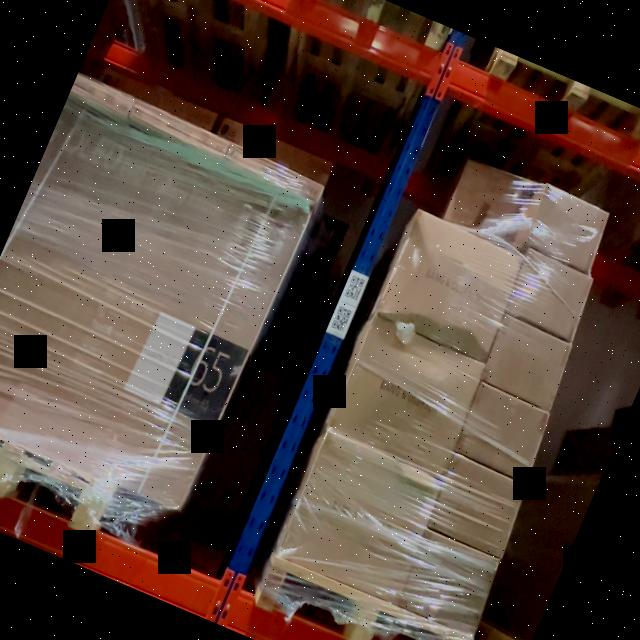box: (278, 436, 442, 601), (328, 322, 482, 472), (375, 210, 525, 358), (398, 538, 496, 630), (430, 460, 523, 552), (456, 386, 550, 477), (484, 319, 573, 404), (505, 253, 593, 338), (524, 188, 608, 270), (221, 142, 324, 202), (130, 98, 228, 157)
